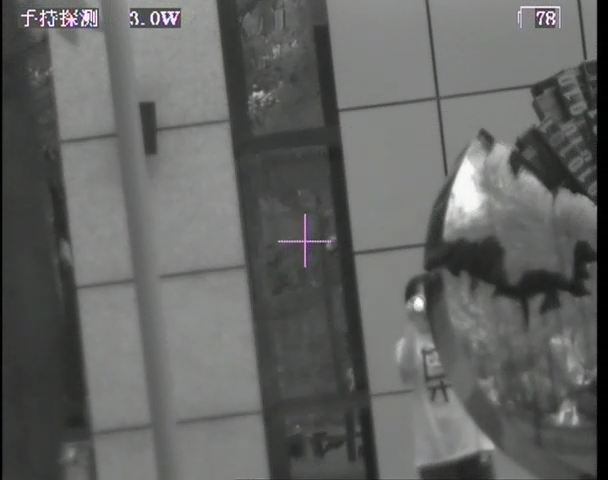my: (410, 296, 428, 313)
